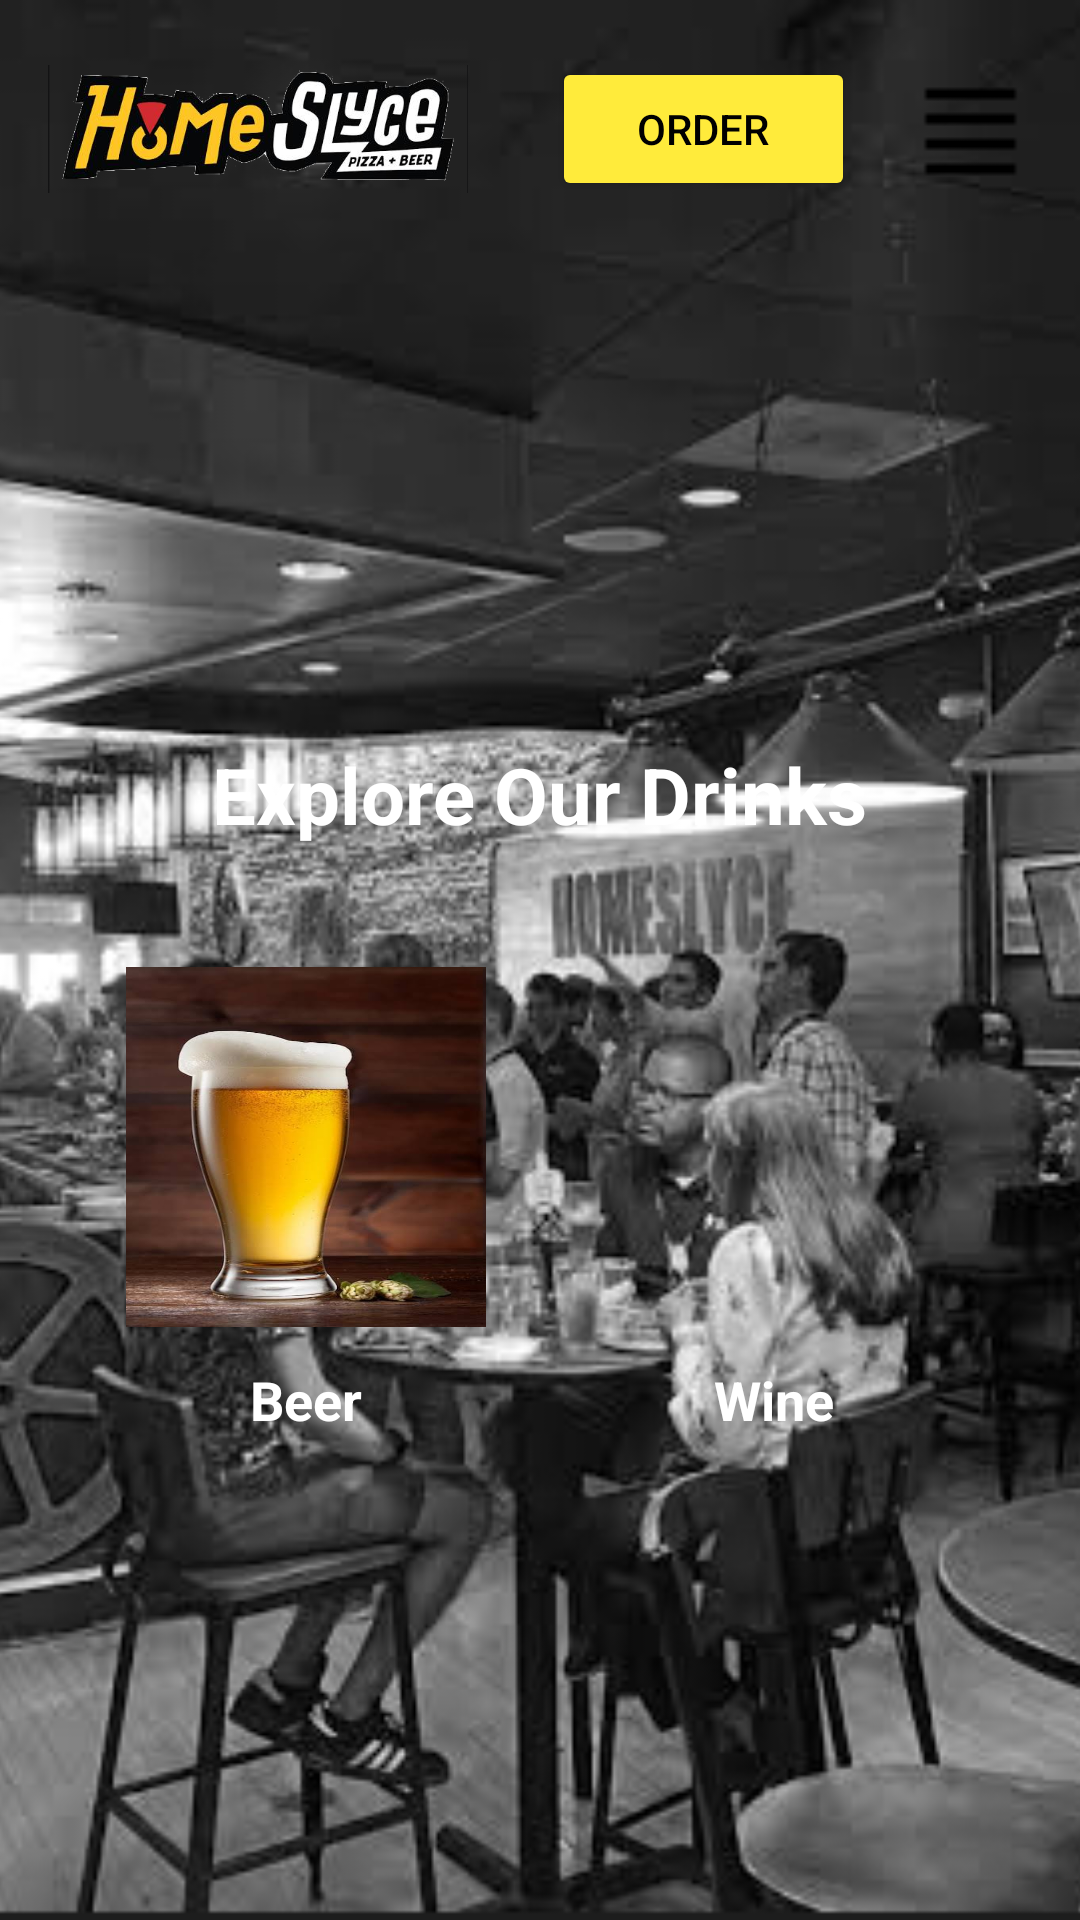

Icons on this 1080x1920 Android screen, each with the point to tap as point (x, y):
Menu Button: point (970, 131)
